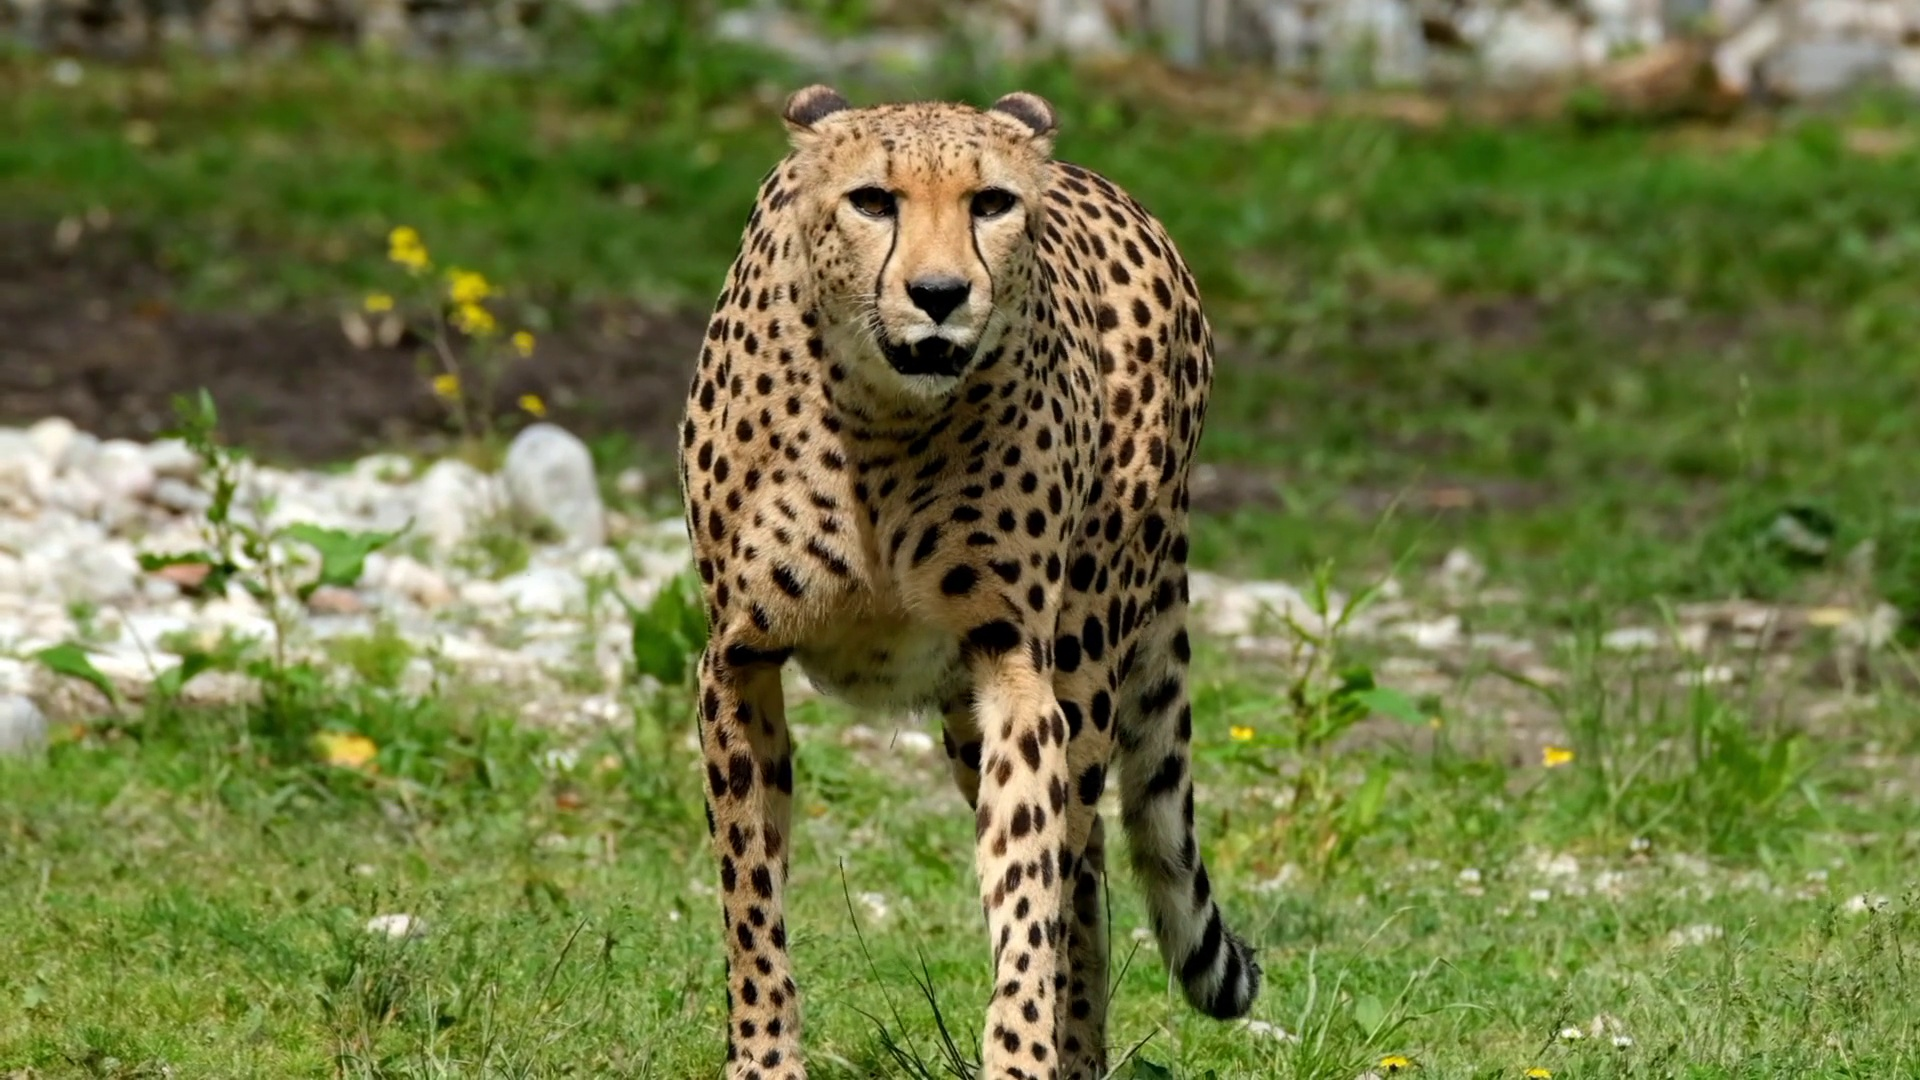Cheetah: (673, 80, 1266, 1080)
